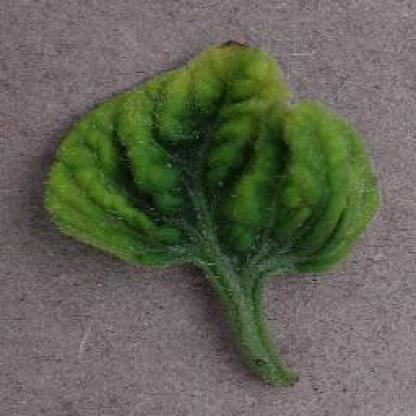bad leaf: (45, 32, 400, 401)
